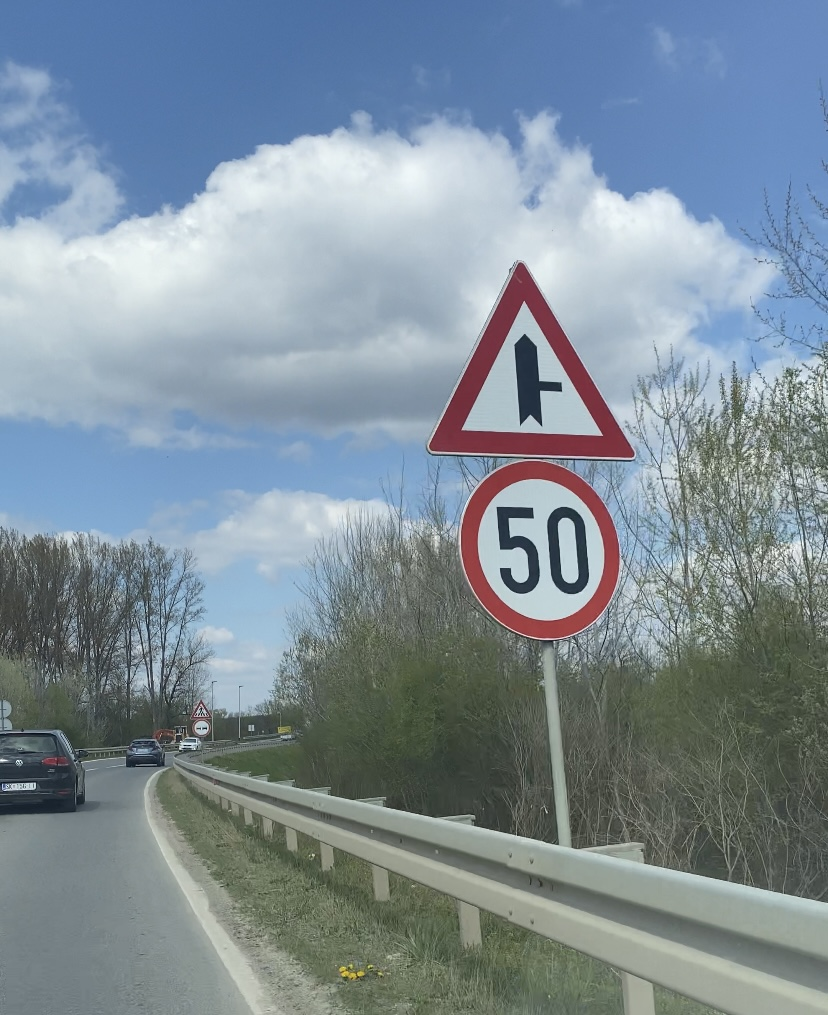Ograničenje brzine 50: (459, 459, 621, 641)
Približavanje pješačkom prijelazu: (191, 699, 212, 718)
Zabrana pretjecanja: (192, 719, 211, 737)
